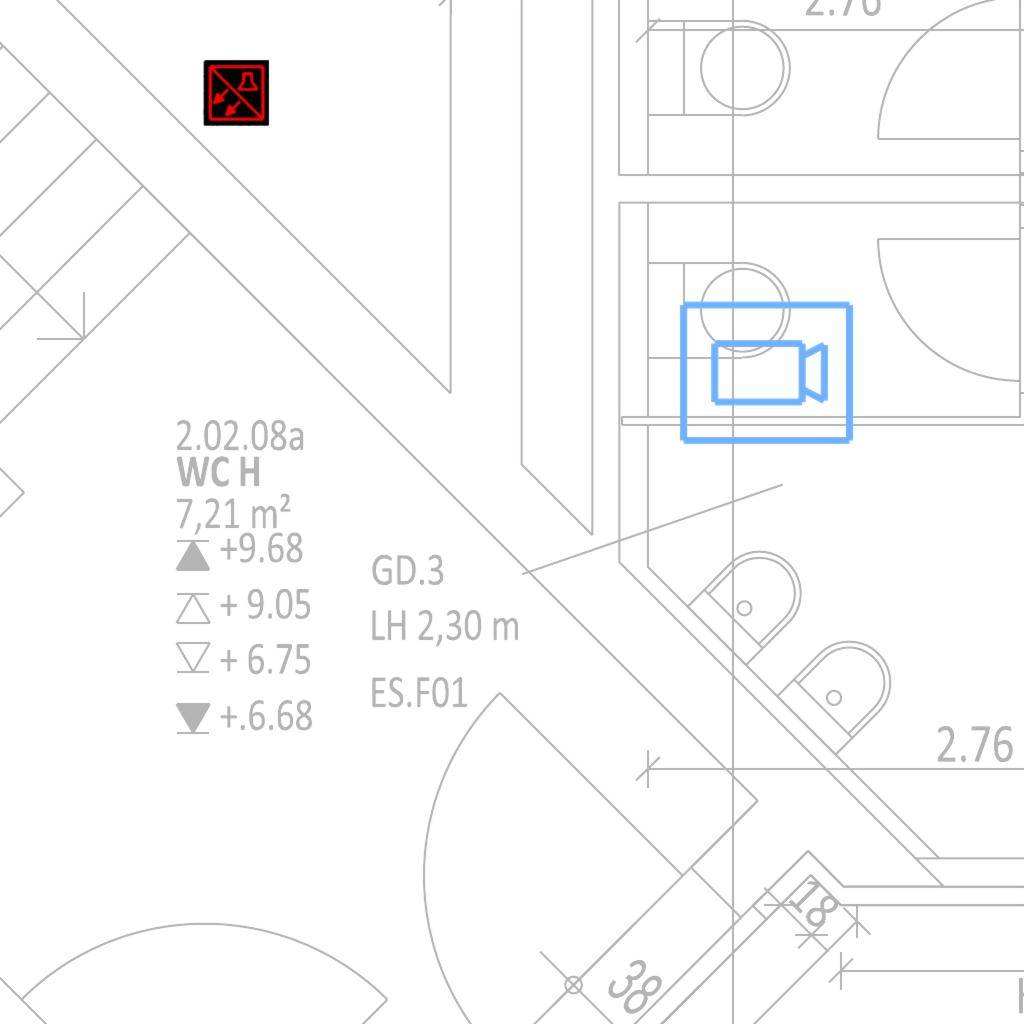KFO_Kamera_mit_Festobjektiv: (675, 297, 857, 451)
OKW_Multisensormelder_(Kombination_optischer_Rauch-Kahlenmonoxid_Waerme-Melder): (203, 60, 269, 126)
